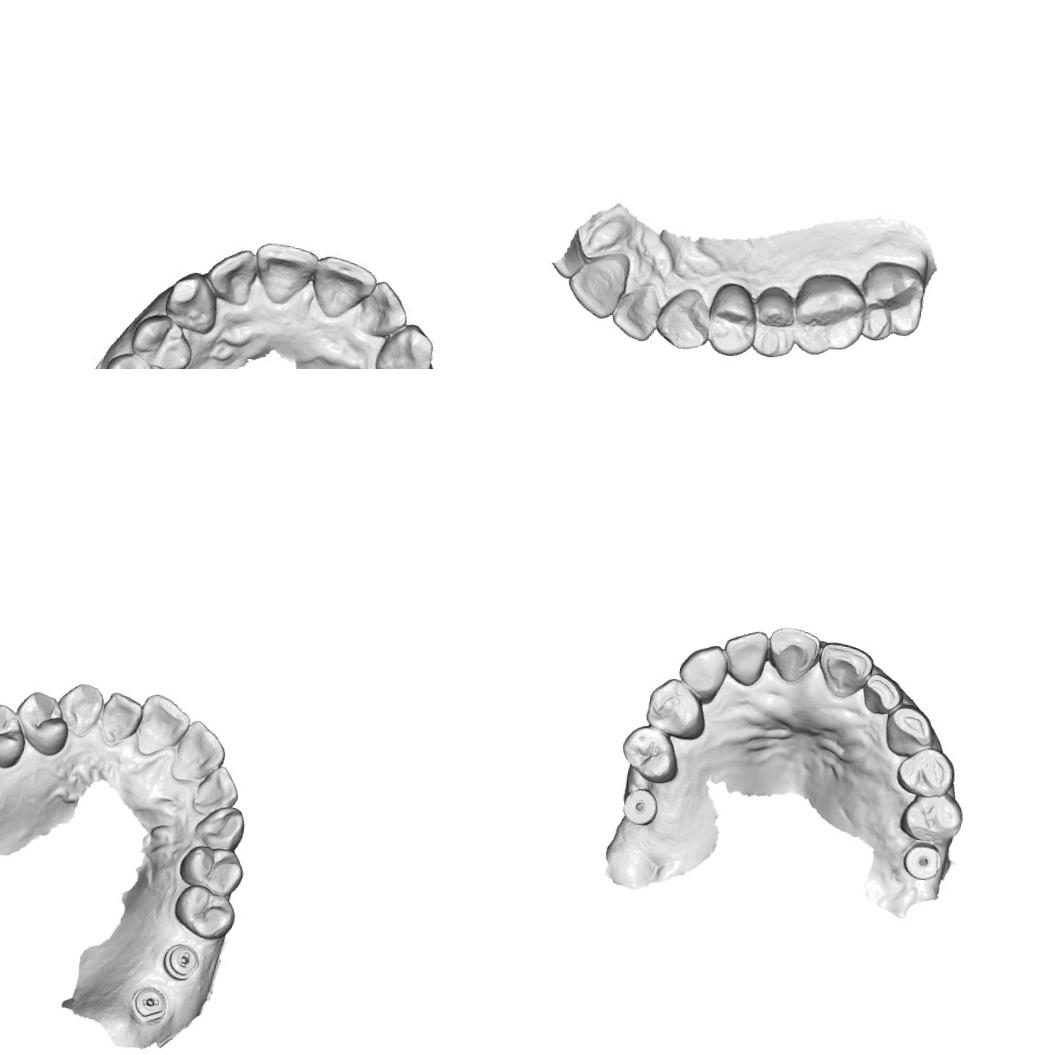canine: (159, 266, 222, 336), (652, 284, 711, 356), (673, 640, 730, 706), (371, 318, 440, 369), (880, 702, 938, 761), (53, 680, 106, 740), (190, 802, 250, 854)
implant: (900, 840, 946, 883), (619, 785, 663, 829)
implant_minus: (158, 939, 204, 983), (128, 984, 170, 1026)
incisor: (249, 239, 321, 311), (307, 253, 380, 324), (131, 690, 194, 761), (170, 717, 230, 786), (564, 258, 628, 322), (814, 639, 877, 704), (200, 242, 260, 308), (605, 280, 662, 348), (763, 622, 823, 686), (355, 278, 412, 342), (720, 624, 771, 690), (95, 688, 146, 751), (190, 762, 243, 817), (860, 670, 904, 718)
molar: (786, 269, 867, 365), (850, 256, 931, 348)
premolar: (640, 674, 712, 742), (700, 280, 758, 362), (125, 308, 198, 369), (744, 284, 800, 362), (618, 721, 684, 787), (11, 688, 73, 758), (170, 881, 239, 942), (894, 788, 966, 846), (892, 742, 959, 800), (176, 843, 247, 897), (0, 700, 30, 772), (100, 348, 169, 369)
